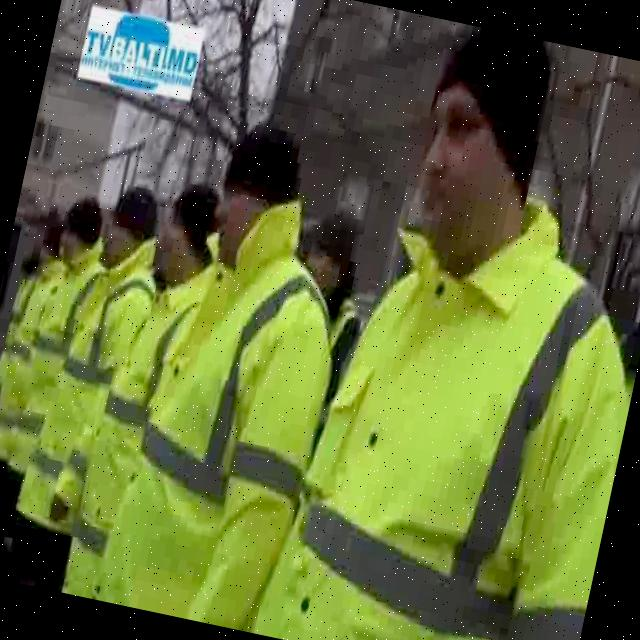vest: (250, 154, 640, 640), (90, 169, 368, 638), (56, 236, 218, 609), (8, 218, 170, 548), (1, 221, 115, 483), (0, 251, 70, 471)
